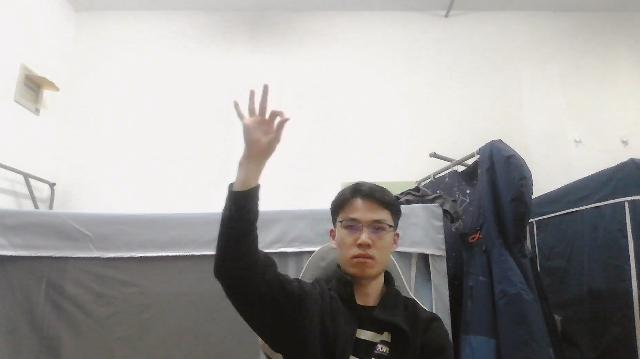ok: (230, 83, 289, 157)
